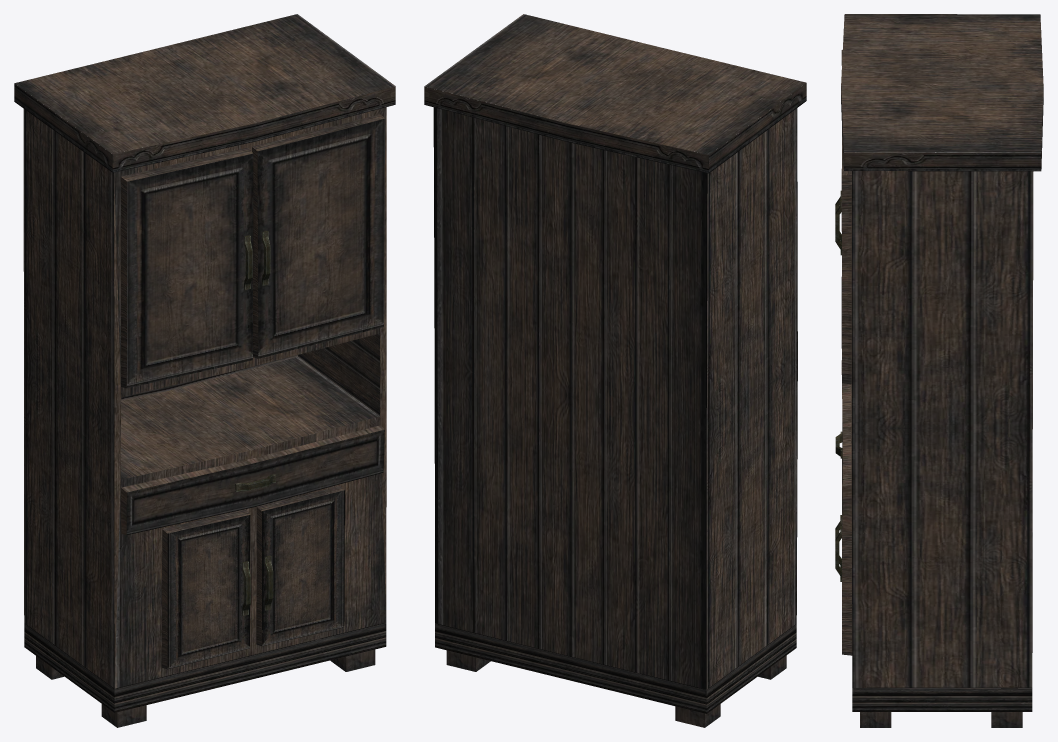
The model's file is GS_VOB_WARDROBE_BLACK_01_KOZA.glb.
3 renders of one model, left to right at view 1: azimuth 30°, elevation 25°; view 2: azimuth 150°, elevation 25°; view 3: azimuth 270°, elevation 25°, orthographic.
Visible parts, largest first — view 1: GS_VOB_WARDROBE_BLACK_01_KOZA; view 2: GS_VOB_WARDROBE_BLACK_01_KOZA; view 3: GS_VOB_WARDROBE_BLACK_01_KOZA.
Part boxes in pixels (box(x1,y1,x2,y2)): GS_VOB_WARDROBE_BLACK_01_KOZA: box(14, 14, 395, 727); GS_VOB_WARDROBE_BLACK_01_KOZA: box(424, 14, 806, 727); GS_VOB_WARDROBE_BLACK_01_KOZA: box(835, 14, 1043, 727).
Size of the model in its own units: 1.48 by 2.91 by 0.9415.
3 materials, 3 textured.
